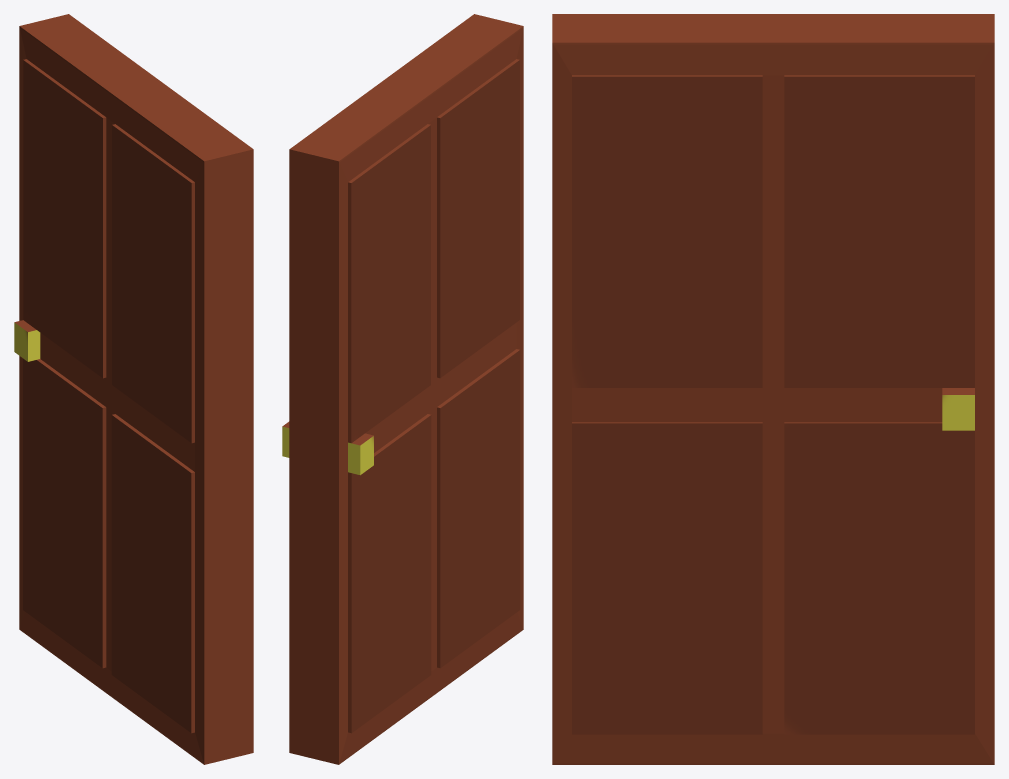
Rendered from Door.fbx.
3 renders of one model, left to right at view 1: azimuth 30°, elevation 25°; view 2: azimuth 150°, elevation 25°; view 3: azimuth 270°, elevation 25°, orthographic. The views are drawn at different scales.
Parts seen in each view (by area): view 1: Cube; view 2: Cube; view 3: Cube.
Boxes of the visible parts, <box> form: Cube: <box>14,14,253,764</box>; Cube: <box>282,14,523,764</box>; Cube: <box>552,14,994,764</box>.
Bounding box in the file's own units: 65.17 × 481 × 267.
1 material, 1 textured.
